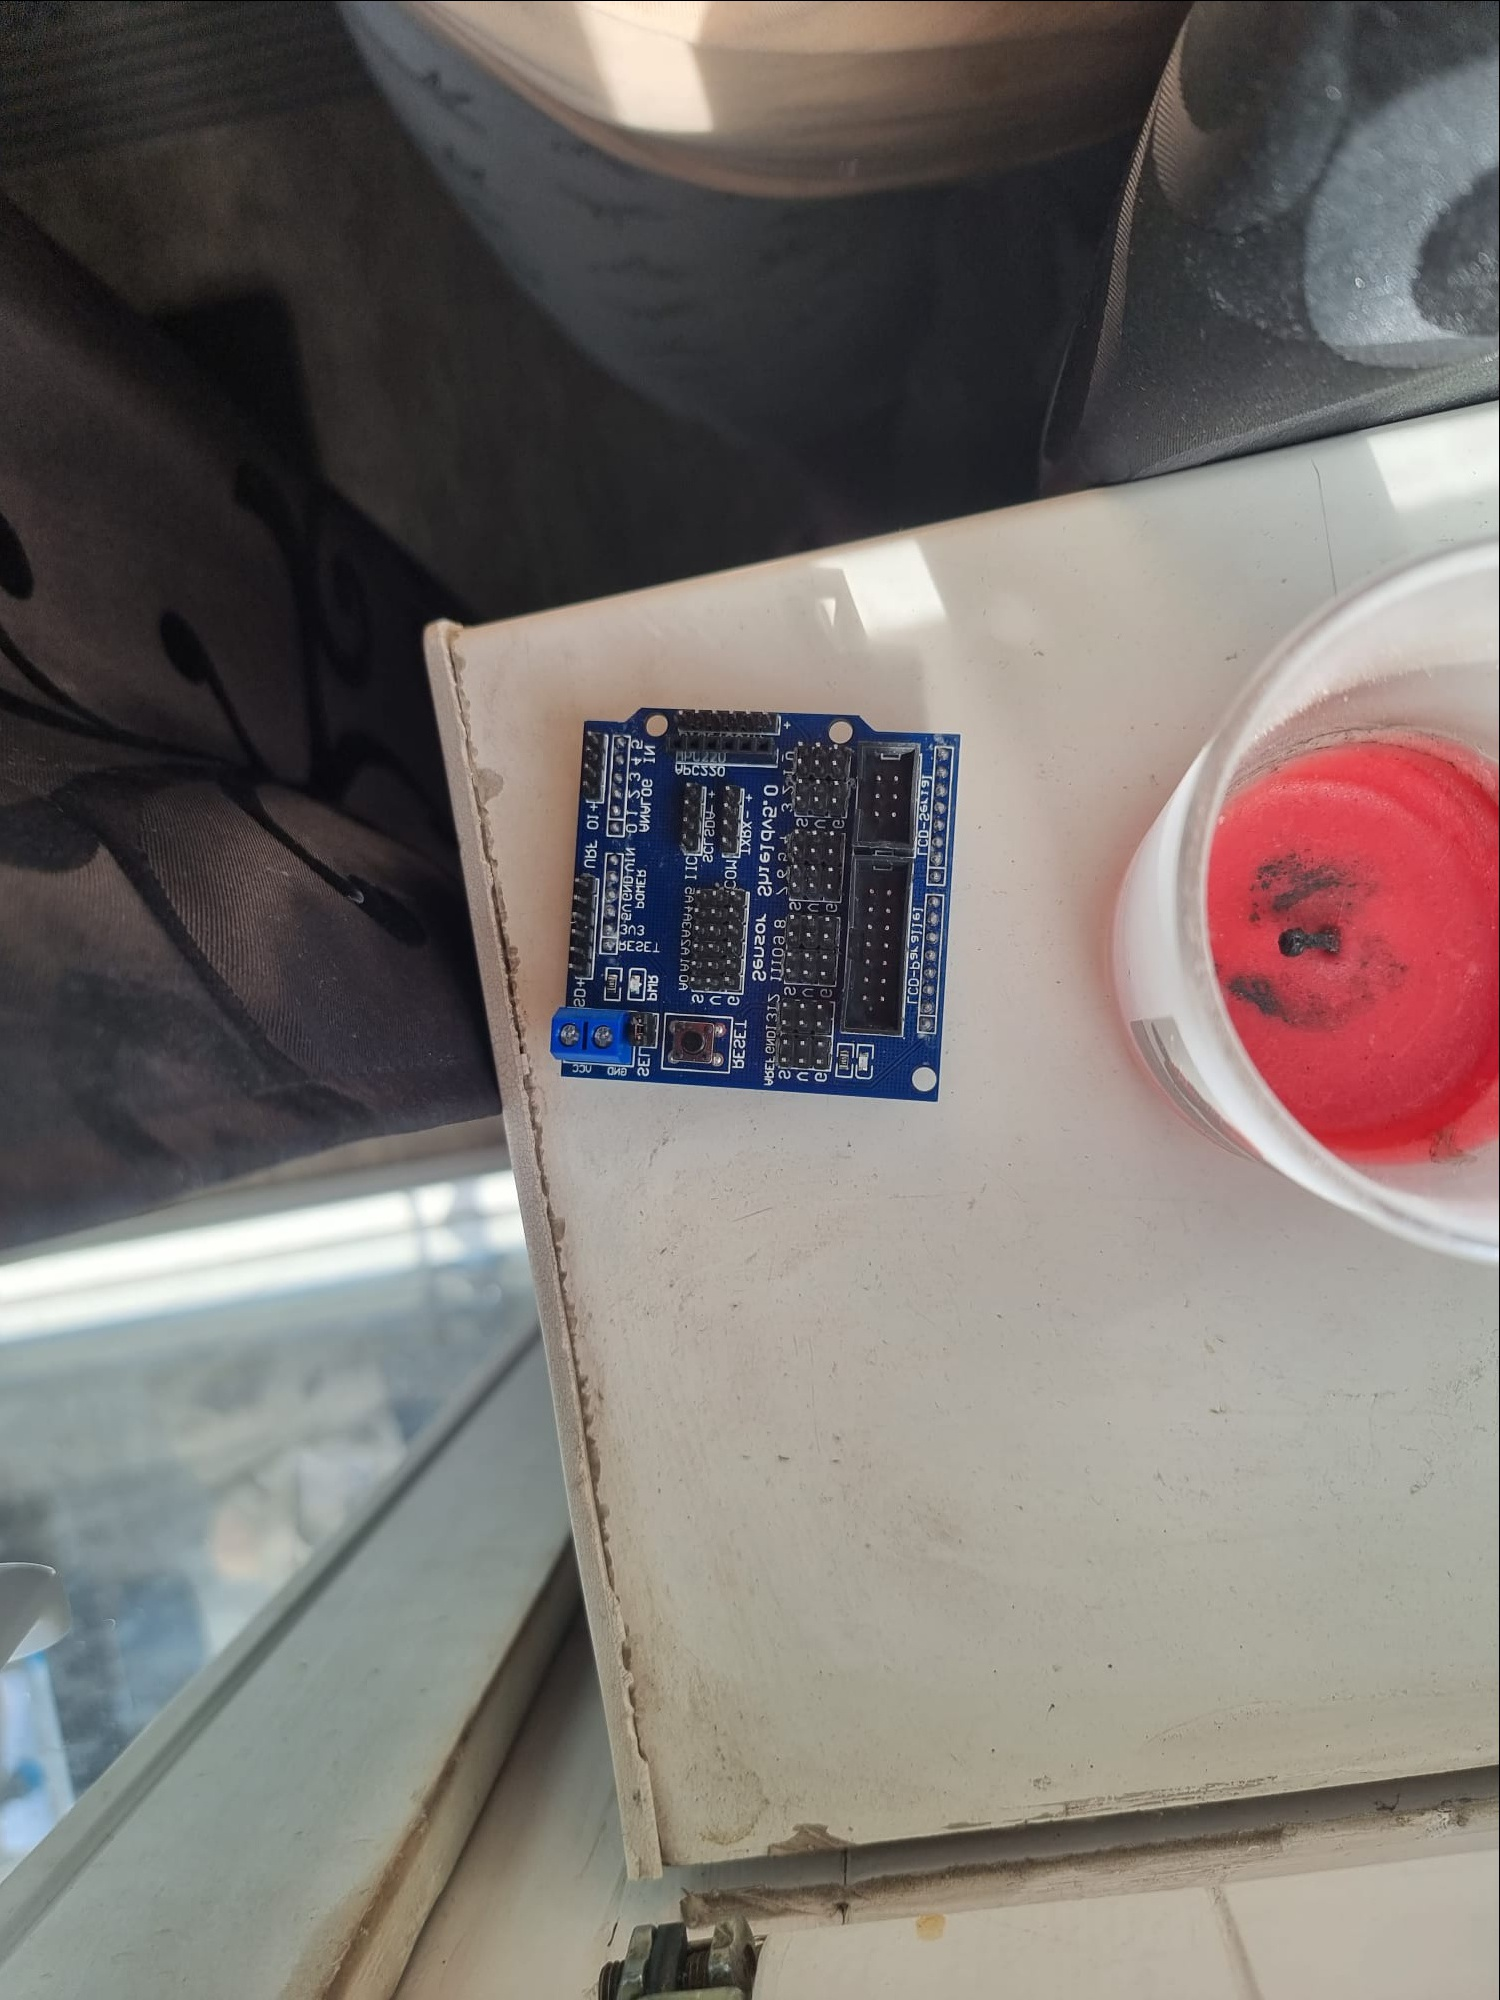5V EXPANSION: (561, 694, 978, 1106)
